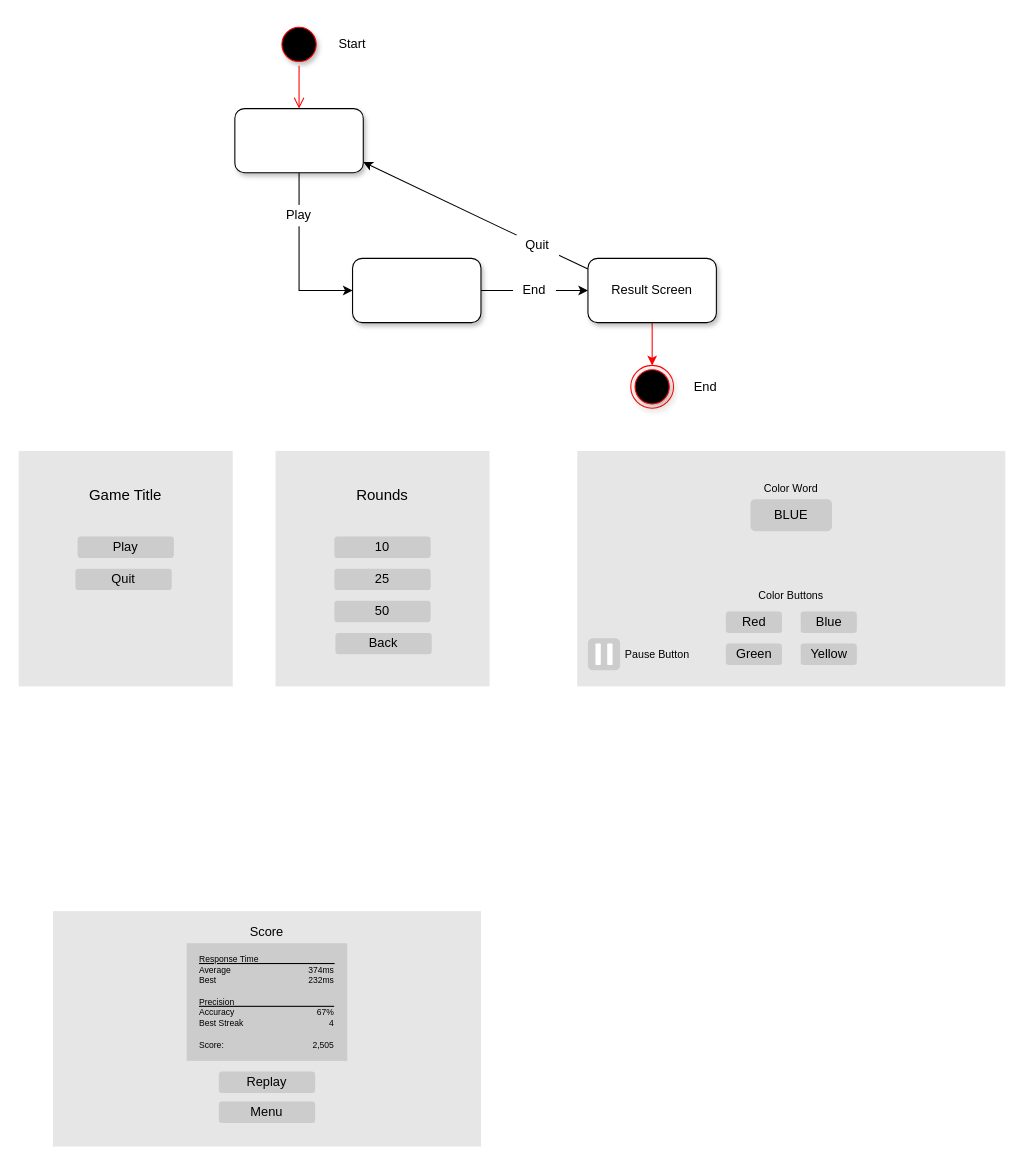
Image size: 1023x1165. Some labels were removed from this diagram. The centre of each missing label's shape, as x and y in pixels:
Game Scene: the point at 417,291
Main Menu Mode Select: the point at 300,141
